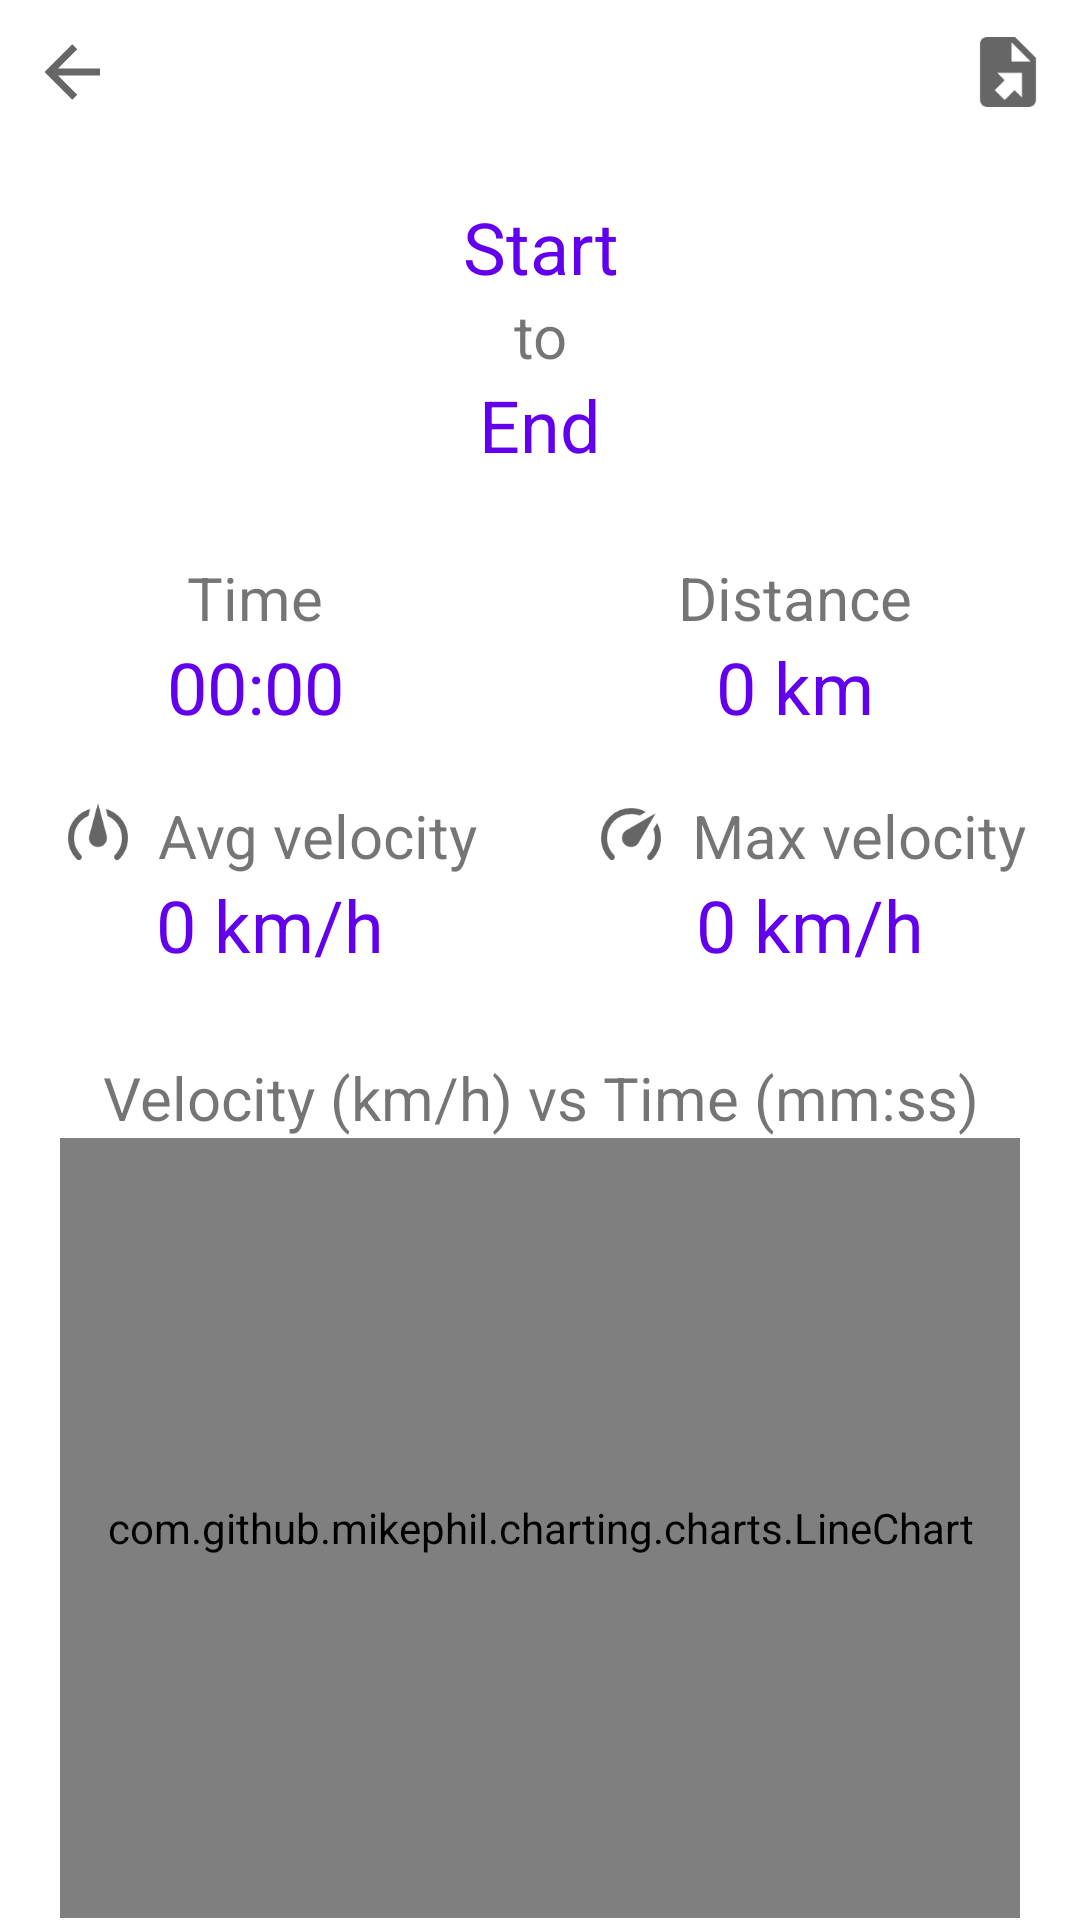

Screen size 1080px x 1920px. Icon name, then its box in pixels as (x1, y1, x2, y2):
export: (980, 37, 1036, 107)
left arrow: (45, 44, 100, 100)
